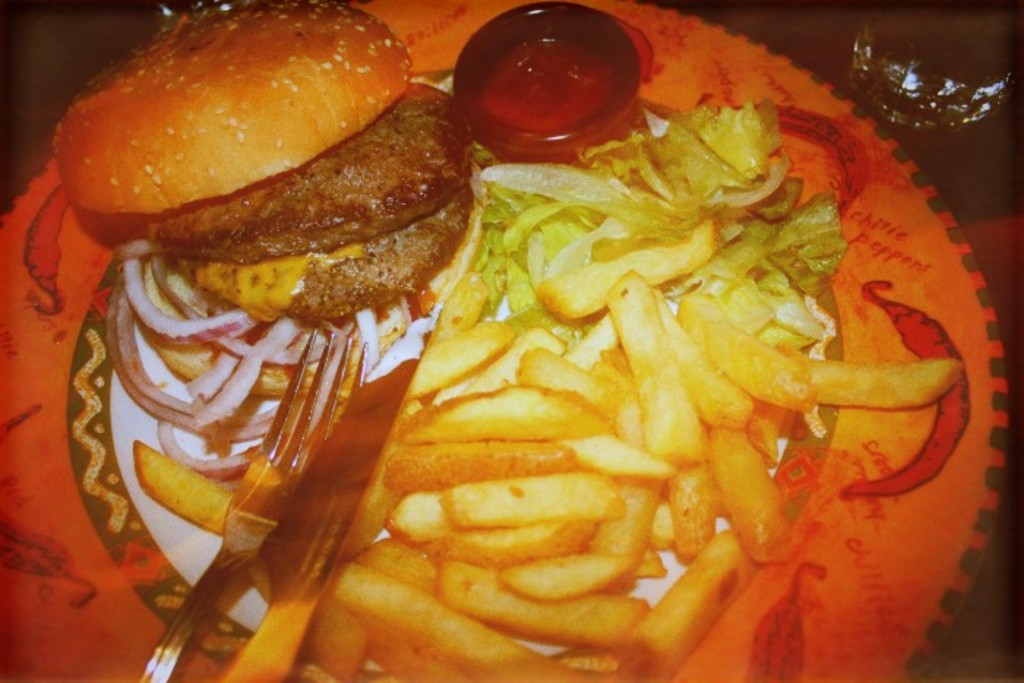French fries: (122, 152, 966, 681)
